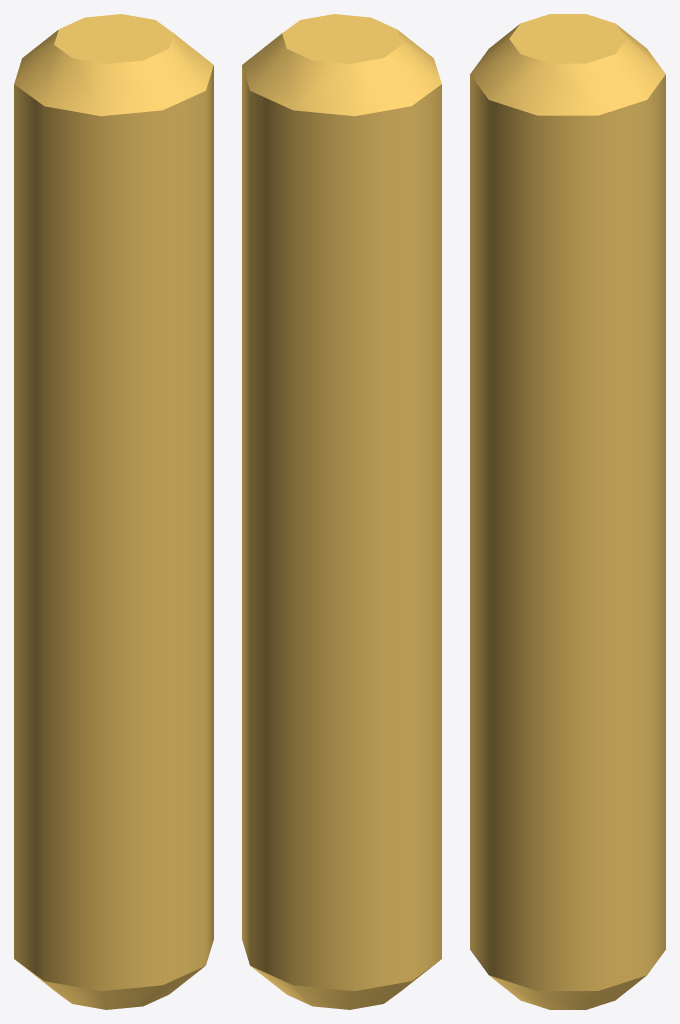
File: 97b_fragment_tige.fbx
3 views of the same model, side by side, from view 1: azimuth 30°, elevation 25°; view 2: azimuth 150°, elevation 25°; view 3: azimuth 270°, elevation 25° (orthographic).
Parts seen in each view (by area): view 1: Lueur; view 2: Lueur; view 3: Lueur.
Boxes of the visible parts, bbox=[...] form: Lueur: bbox=[14, 14, 213, 1009]; Lueur: bbox=[242, 14, 441, 1009]; Lueur: bbox=[470, 14, 665, 1009].
Size of the model in its own units: 0.084 by 0.448 by 0.084.
1 material, 1 textured.
